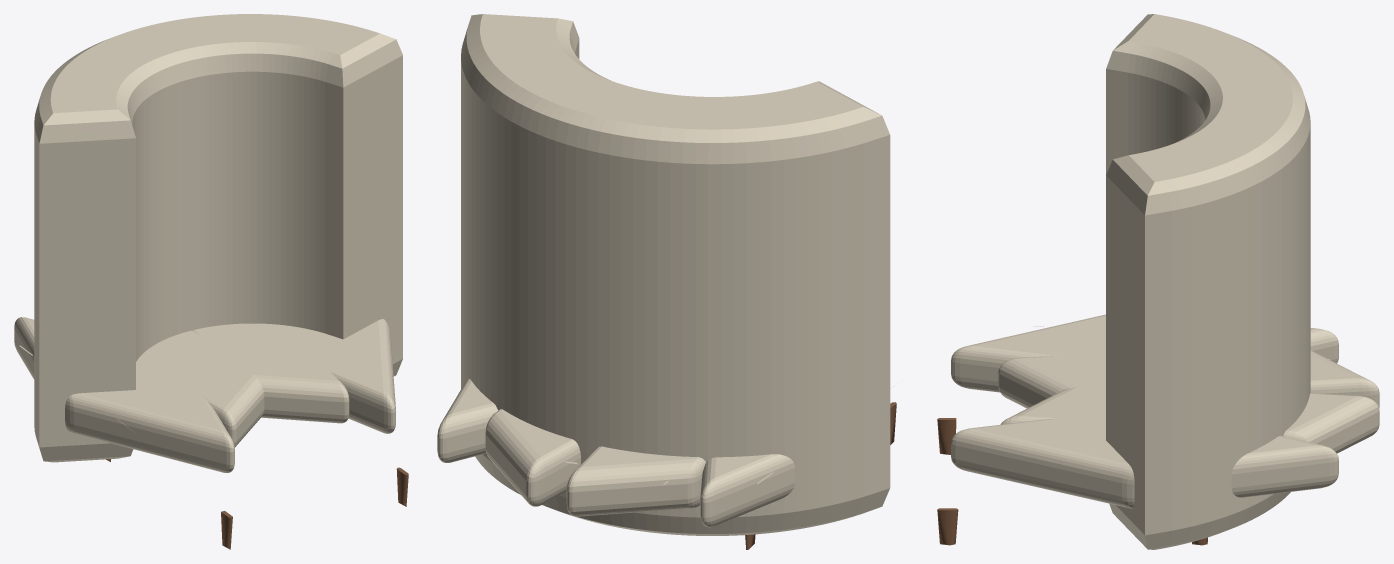
Rendered from studio-sofa-curve.lod.glb.
The picture shows the model from 3 angles, left to right: view 1: azimuth 30°, elevation 25°; view 2: azimuth 150°, elevation 25°; view 3: azimuth 270°, elevation 25°; orthographic projection. The views are drawn at different scales.
Visible parts, largest first — view 1: part (×2); view 2: part; view 3: part (×2).
Part boxes in pixels (x1=…): part (×2): x1=14, y1=14, x2=408, y2=549; part: x1=437, y1=14, x2=894, y2=535; part (×2): x1=937, y1=14, x2=1379, y2=549.
Size of the model in its own units: 1 by 1 by 1.
